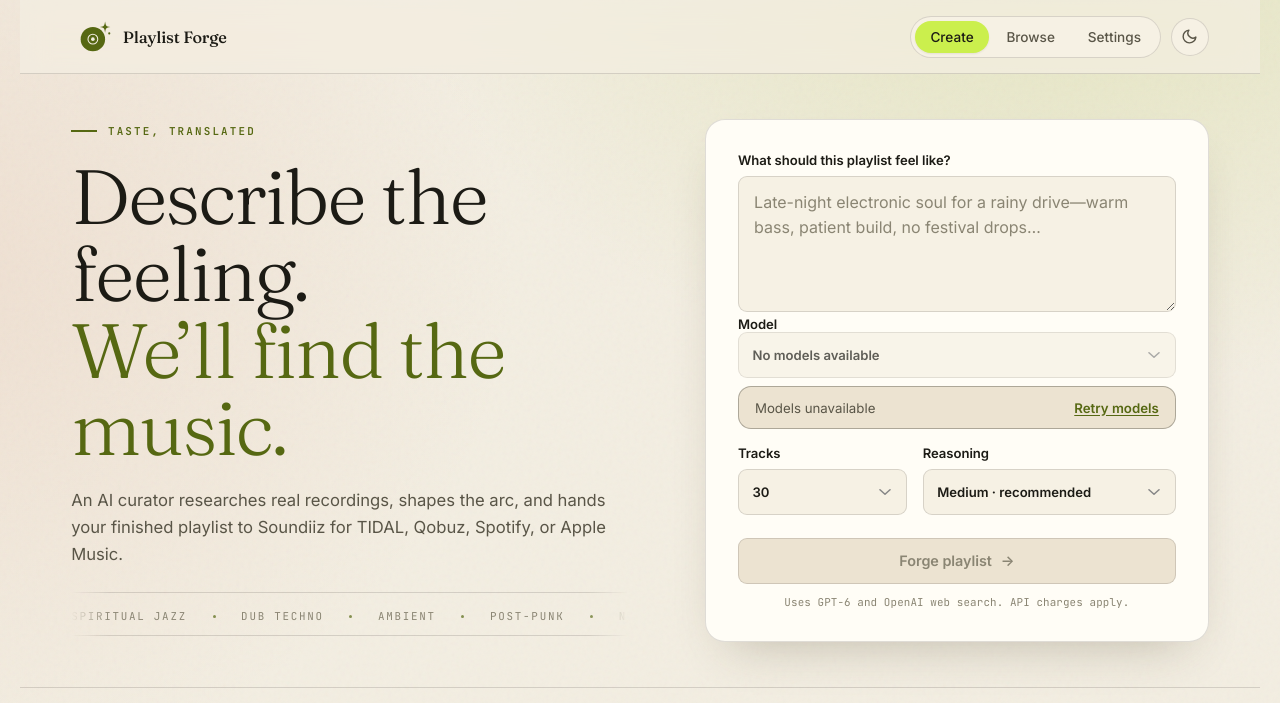
Test case: OpenAI model selection › retries discovery and selects the only available model
Expected: the text "Models unavailable" is shown, [755,400,875,416]
Expected: the button "Forge playlist →" is disabled, [738,538,1176,584]
Click the button "Retry models" at (1117, 408), box [1074,400,1159,416]
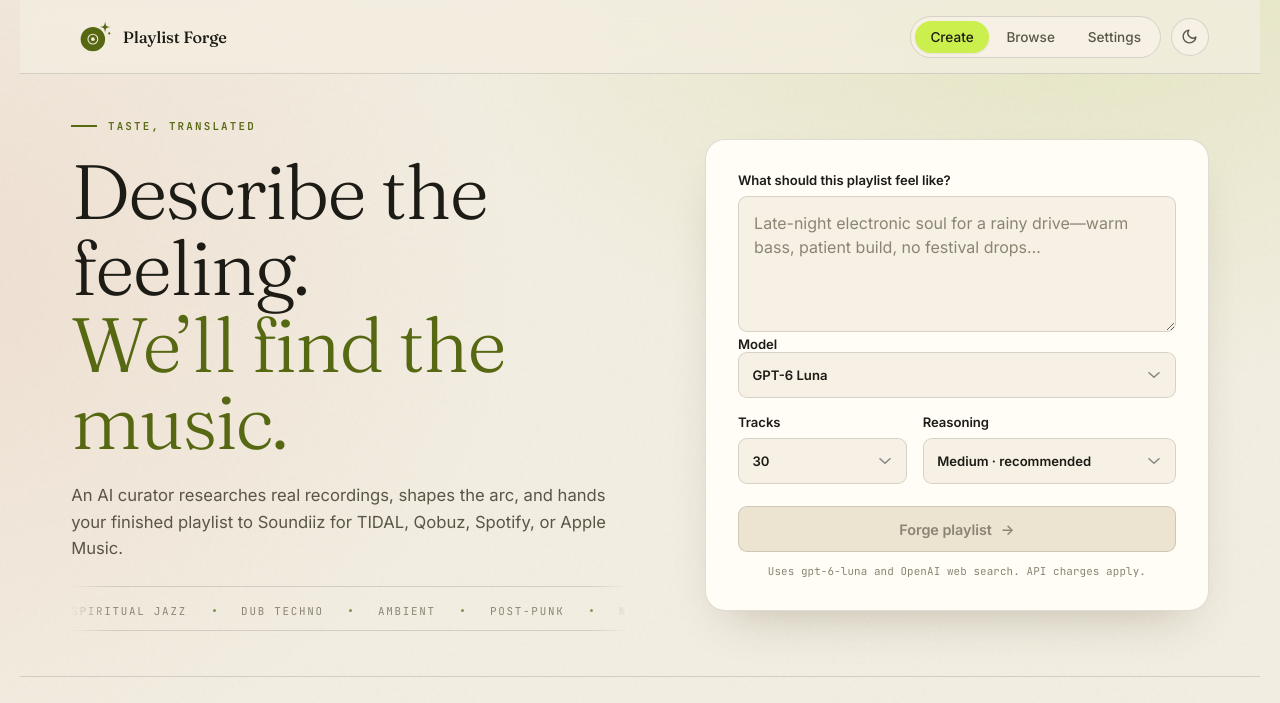
Expected: the dropdown labelled "Model" shows "GPT-6 Luna", [738,352,1176,398]
